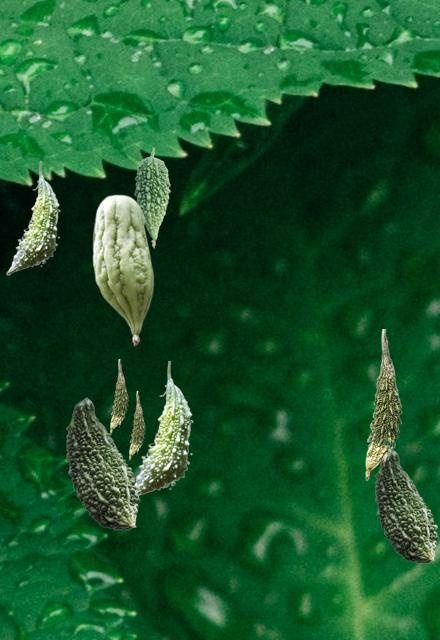ampalaya: (66, 397, 139, 529), (92, 194, 153, 345), (135, 361, 192, 495), (375, 449, 437, 562), (6, 161, 59, 274), (365, 329, 401, 480), (134, 147, 169, 247), (110, 359, 127, 433), (129, 391, 144, 459)
